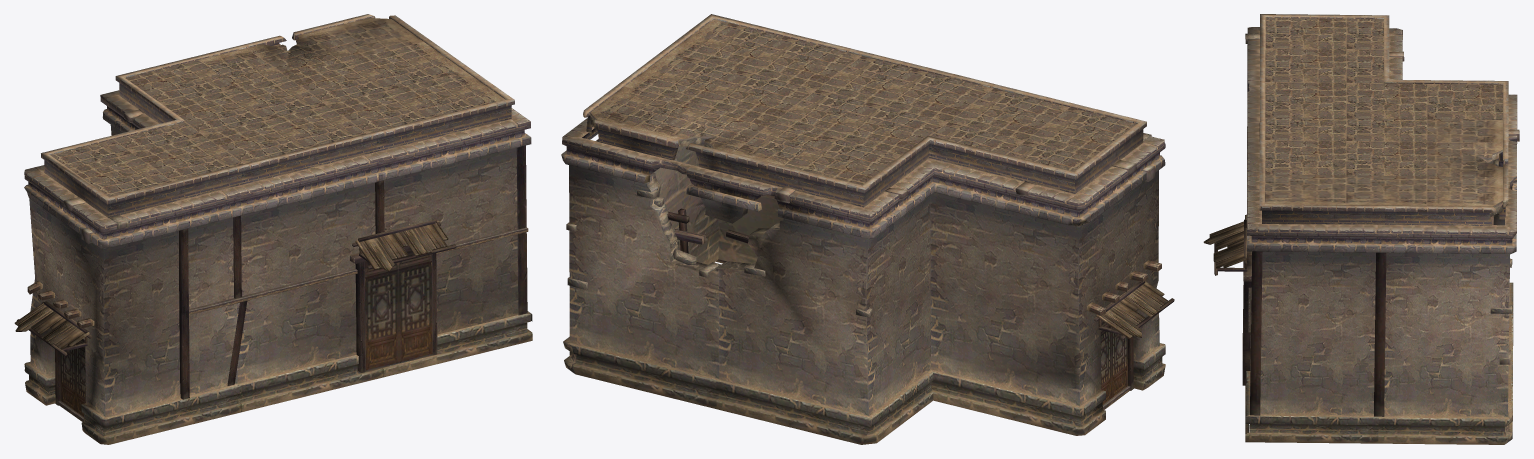
The model's file is FeiXuAll_6.FBX.
3 renders of one model, left to right at view 1: azimuth 30°, elevation 25°; view 2: azimuth 150°, elevation 25°; view 3: azimuth 270°, elevation 25°, orthographic. The views are drawn at different scales.
Visible parts, largest first — view 1: Main, Door_2, Wood, Door_1; view 2: Main, Door_1, Wood; view 3: Main, Wood, Door_2.
Part boxes in pixels (<box>): Main: <box>24,14,532,444</box>; Door_2: <box>350,220,456,372</box>; Wood: <box>179,145,528,399</box>; Door_1: <box>14,281,94,421</box>; Main: <box>561,14,1165,444</box>; Door_1: <box>1087,260,1174,409</box>; Wood: <box>667,208,748,253</box>; Main: <box>1245,14,1519,444</box>; Wood: <box>1248,216,1493,416</box>; Door_2: <box>1203,219,1251,385</box>.
Bounding box in the file's own units: 916 × 458 × 559.
